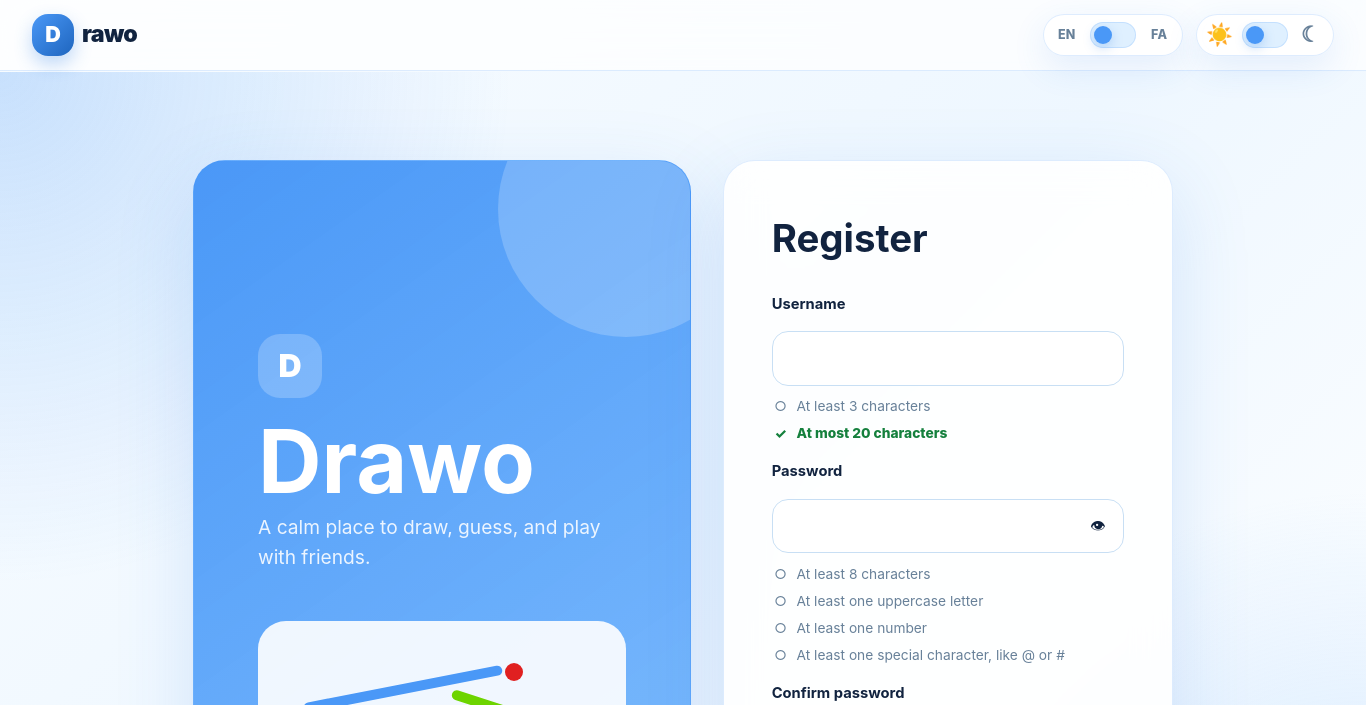
Scenario: LoginPage › registers with confirm password in the backend payload
This screenshot has width=1366, height=705.
In the field labelled "Username": coordinates (948, 358) [772,331,1124,386], type "newuser"
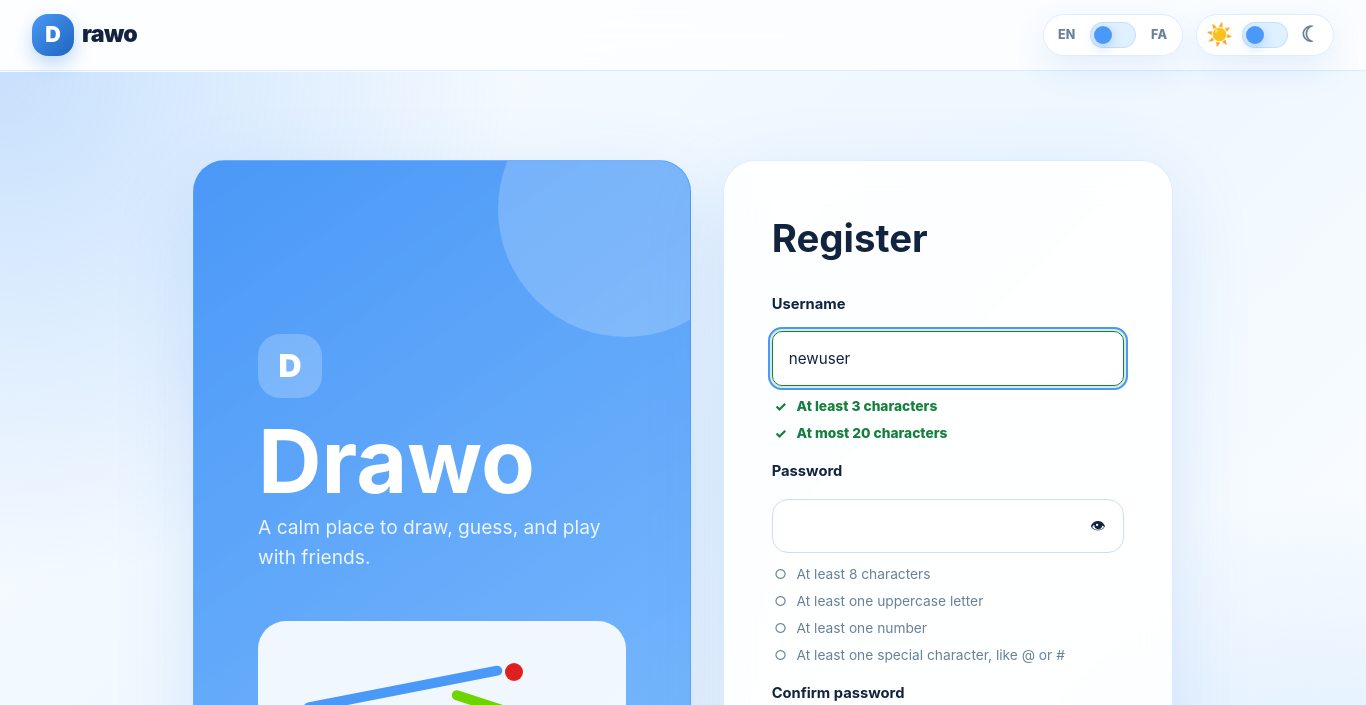
In the password field labelled "Password": coordinates (948, 526) [772,499,1124,553], type "Secret@1"
(page scrolled)
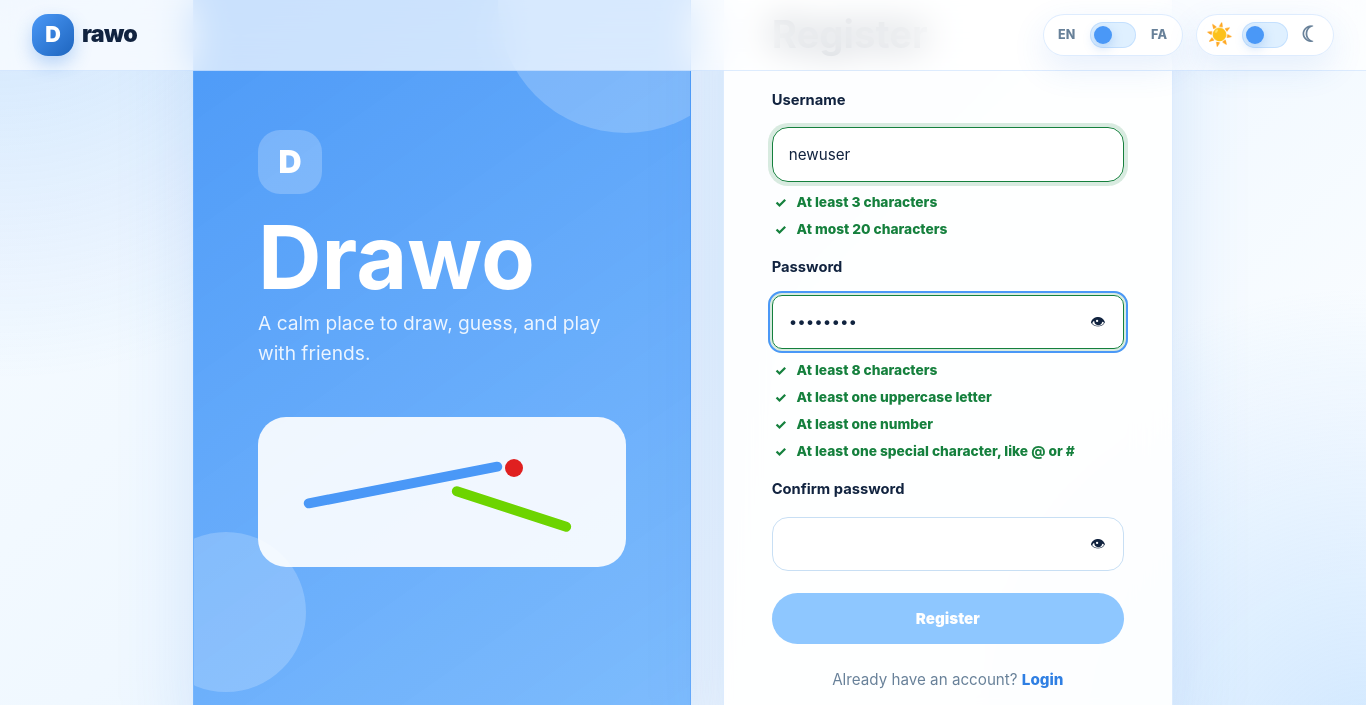
In the password field labelled "Confirm password": coordinates (948, 544) [772,517,1124,571], type "Secret@1"
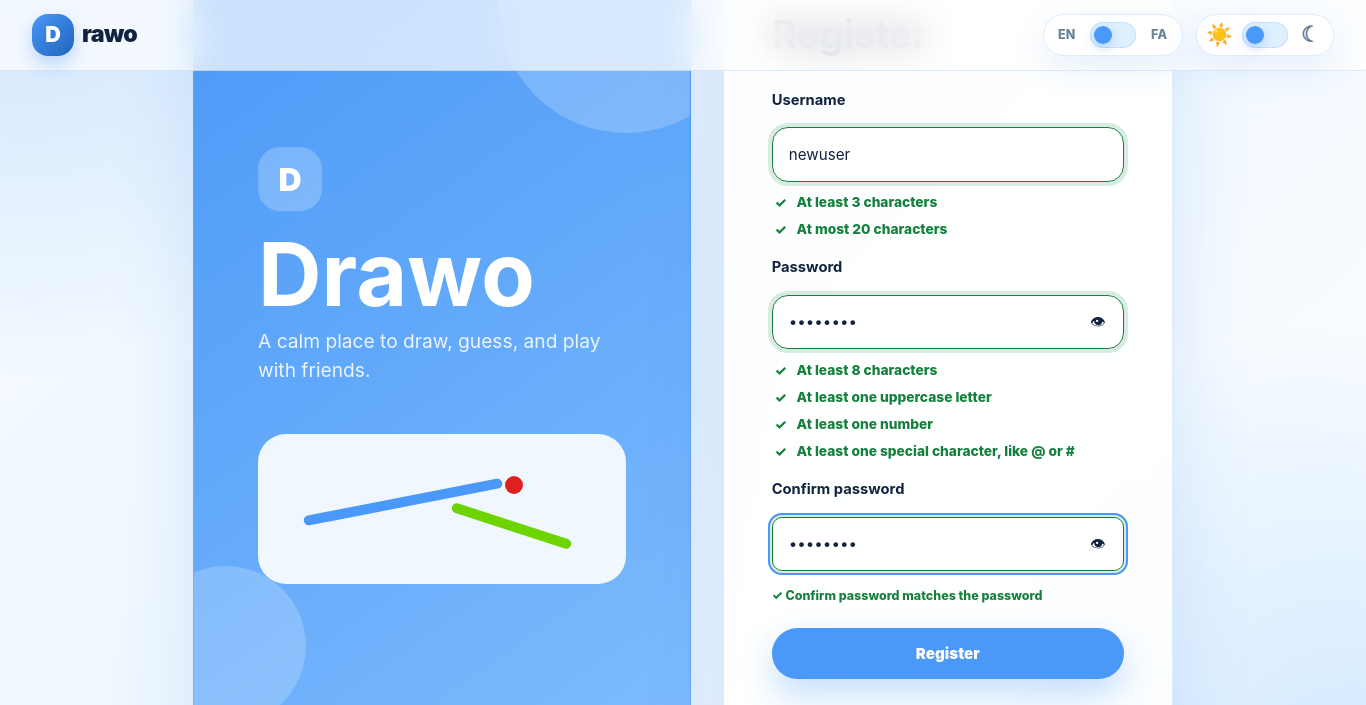
Click the button "Register": coordinates (948, 654) [772,628,1124,679]
(page scrolled)
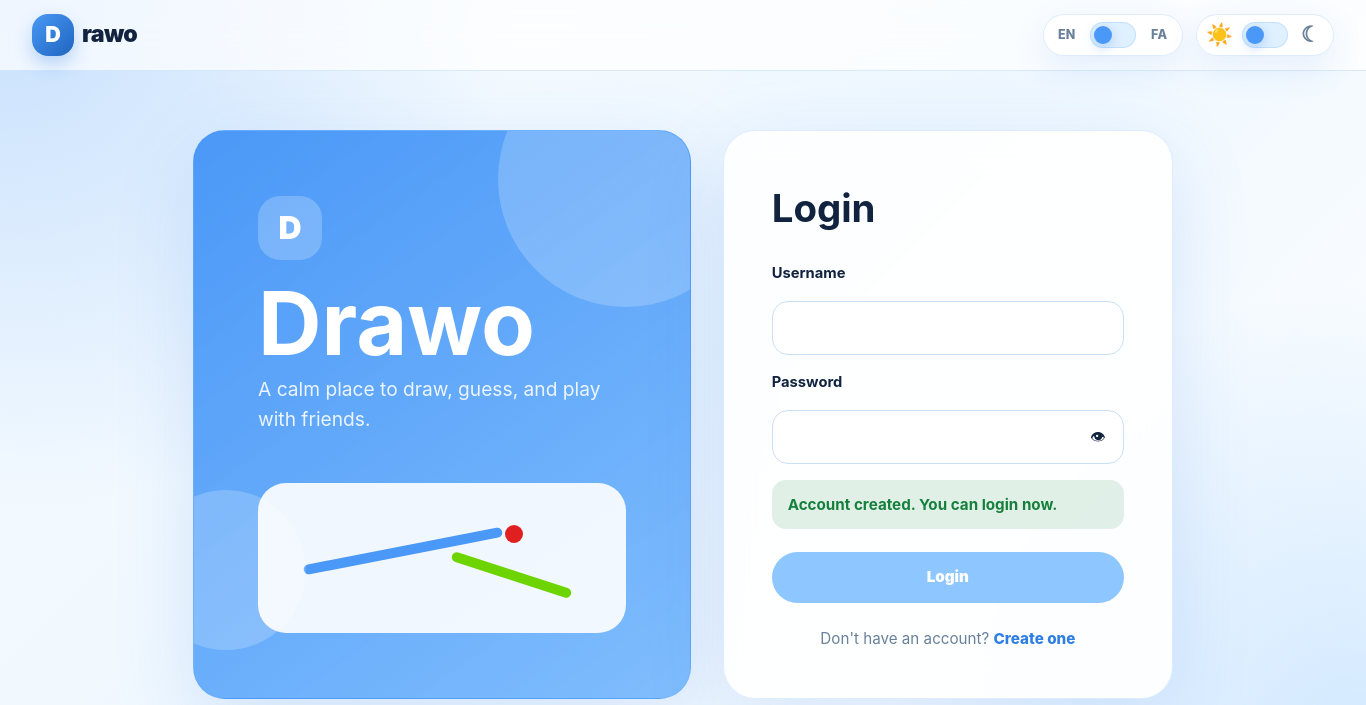
Expected: the message shows "Account created", [788,495,1057,514]
